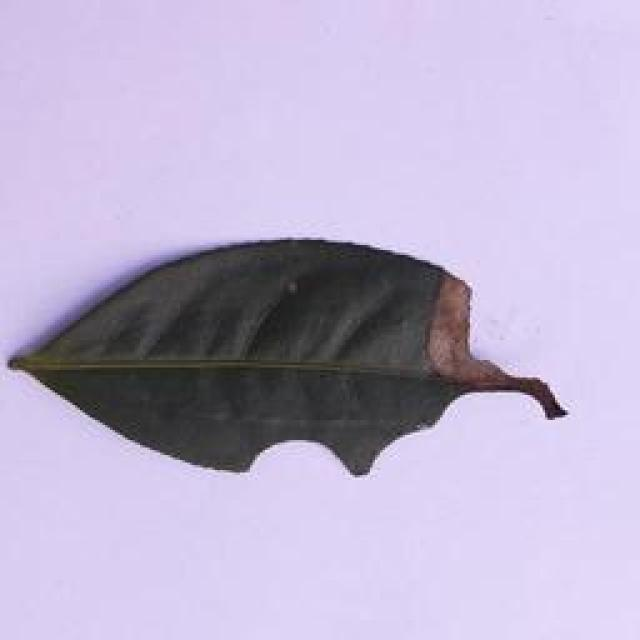Gray Blight: (0, 232, 566, 486)
